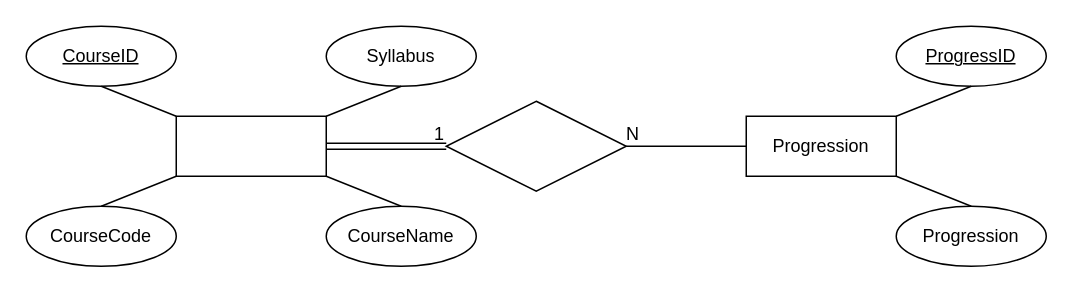
Some shapes in this 1073 by 293 pixel diagram are drawn without their labels. Here are the shapes that lost their labels. From the top down, the box of each, then its label:
(175, 115, 326, 176): Course
(445, 100, 626, 191): has
